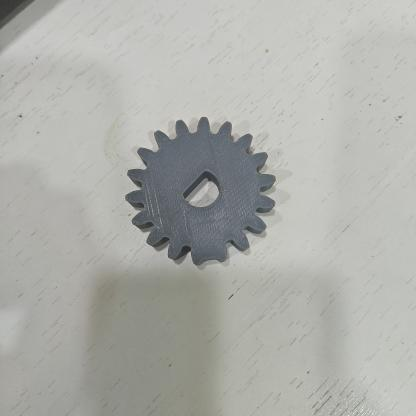defect: (170, 160, 215, 208), (186, 235, 235, 266)
gear: (126, 117, 276, 265)
